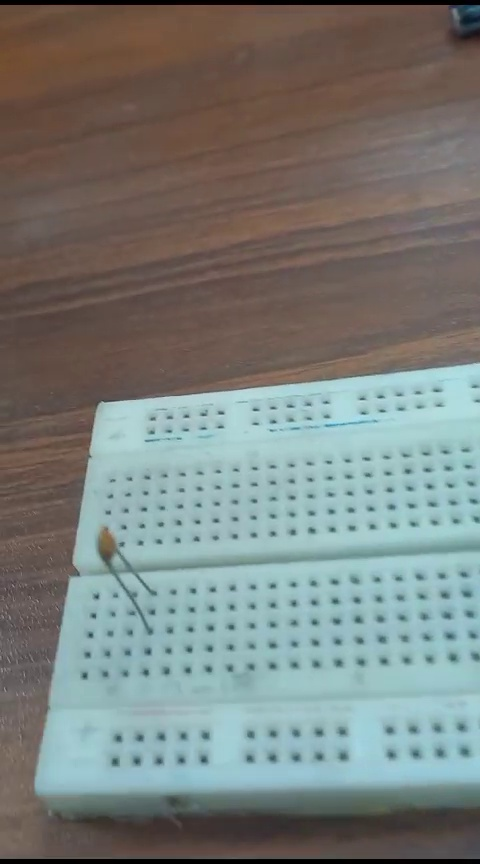ceramic capacitor: (84, 520, 156, 644)
